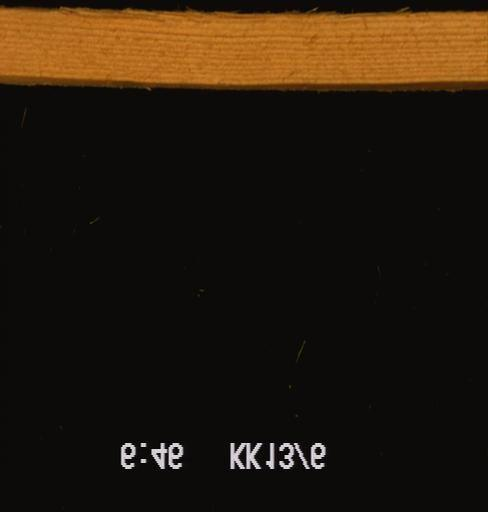wave: (0, 6, 411, 27)
